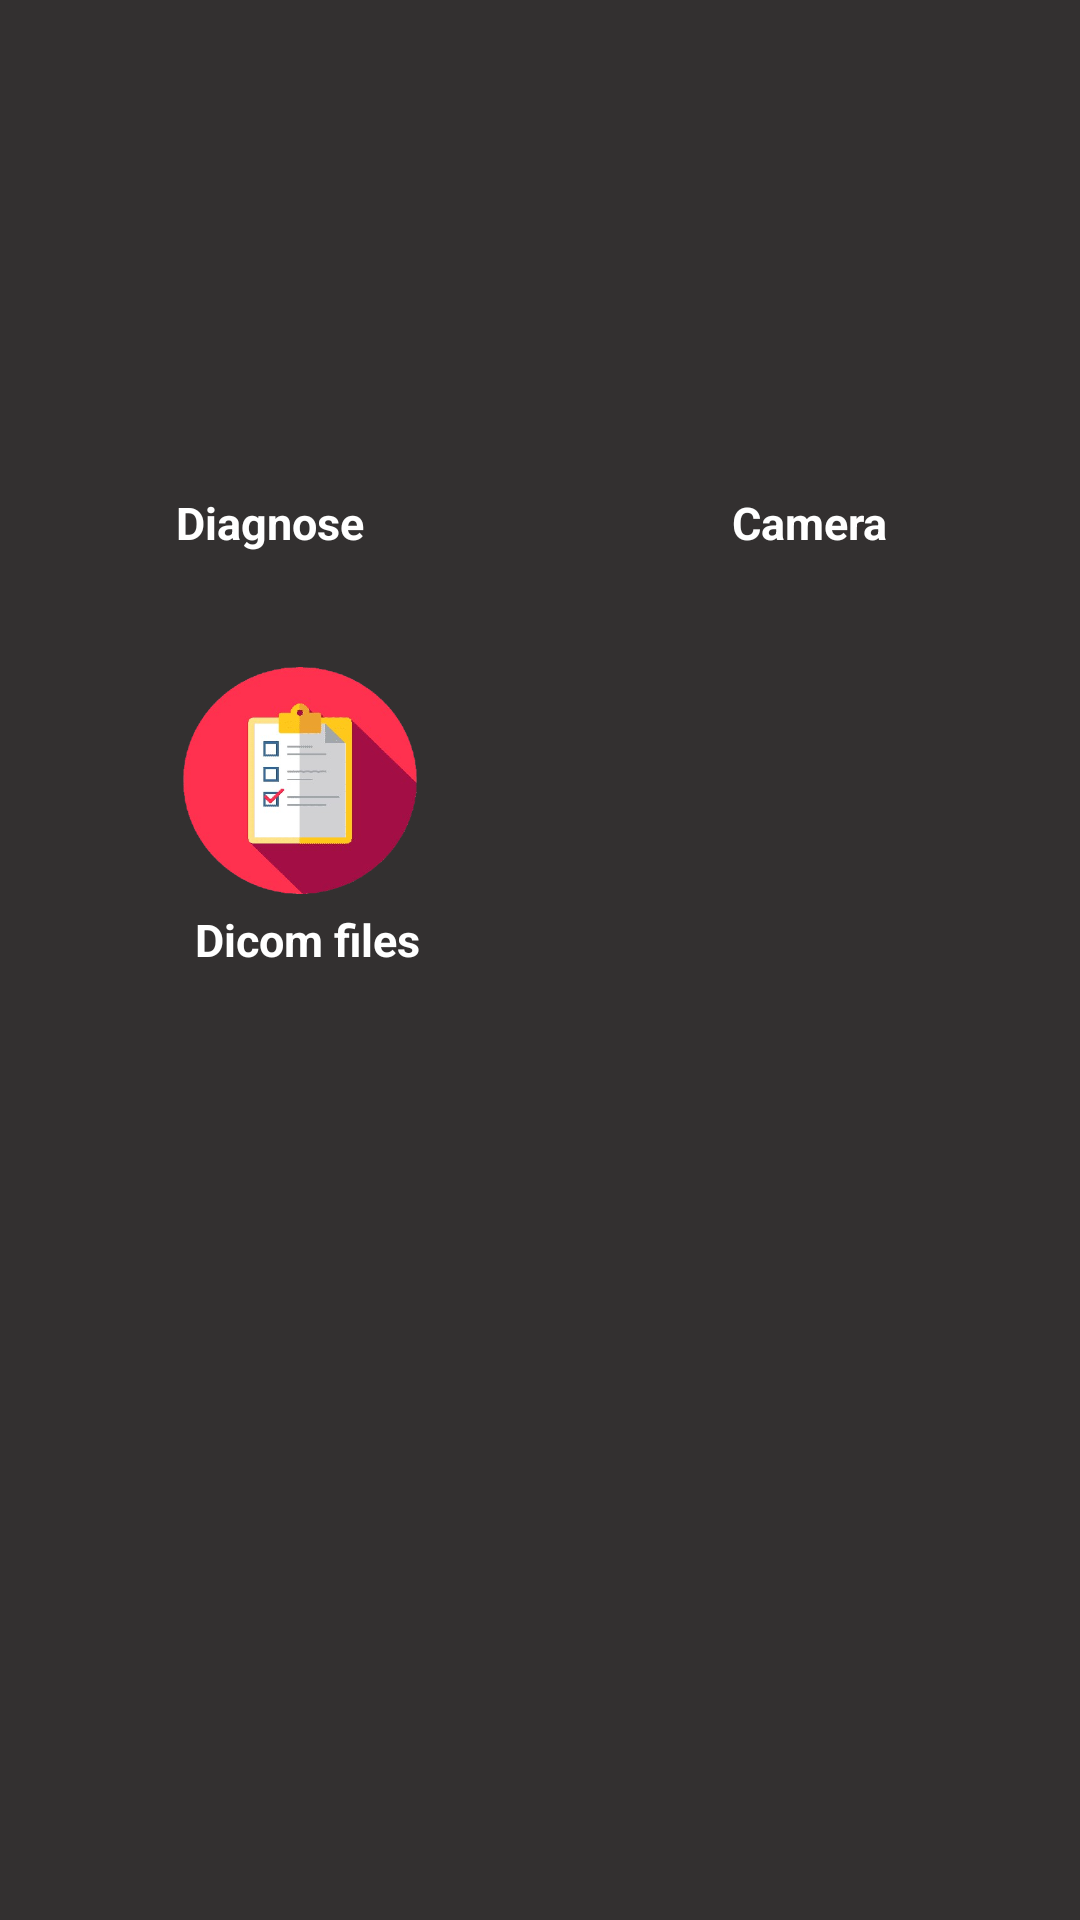

Icon bounding boxes for this 1080 x 1920 phone screenshot, format rect(x1, y1, x2, y2):
lists: rect(183, 667, 417, 894)
